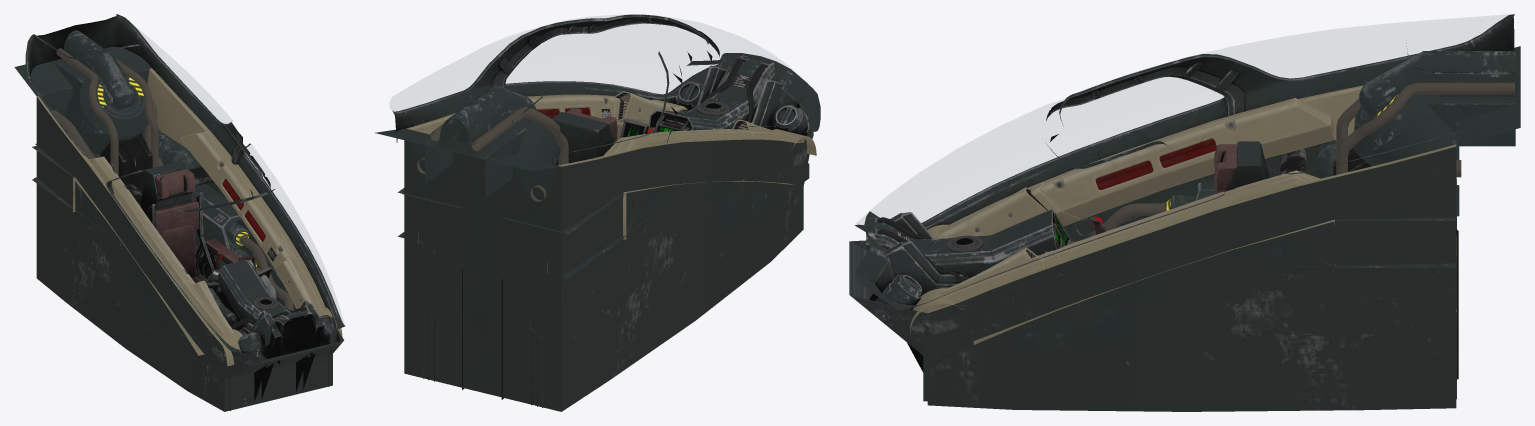
Rendered from space_cockpit.glb.
The picture shows the model from 3 angles, left to right: view 1: azimuth 30°, elevation 25°; view 2: azimuth 150°, elevation 25°; view 3: azimuth 270°, elevation 25°; orthographic projection. The views are drawn at different scales.
Visible parts, largest first — view 1: cockpit_cockpit_0, center_center_0; view 2: cockpit_cockpit_0, center_center_0; view 3: cockpit_cockpit_0, center_center_0.
Part boxes in pixels (x1=…): cockpit_cockpit_0: x1=14, y1=30, x2=344, y2=411; center_center_0: x1=25, y1=14, x2=345, y2=401; cockpit_cockpit_0: x1=375, y1=86, x2=816, y2=411; center_center_0: x1=392, y1=14, x2=820, y2=165; cockpit_cockpit_0: x1=849, y1=46, x2=1520, y2=411; center_center_0: x1=854, y1=14, x2=1514, y2=372.
Size of the model in its own units: 1.05 by 1.66 by 3.05.
5 materials, 4 textured.
